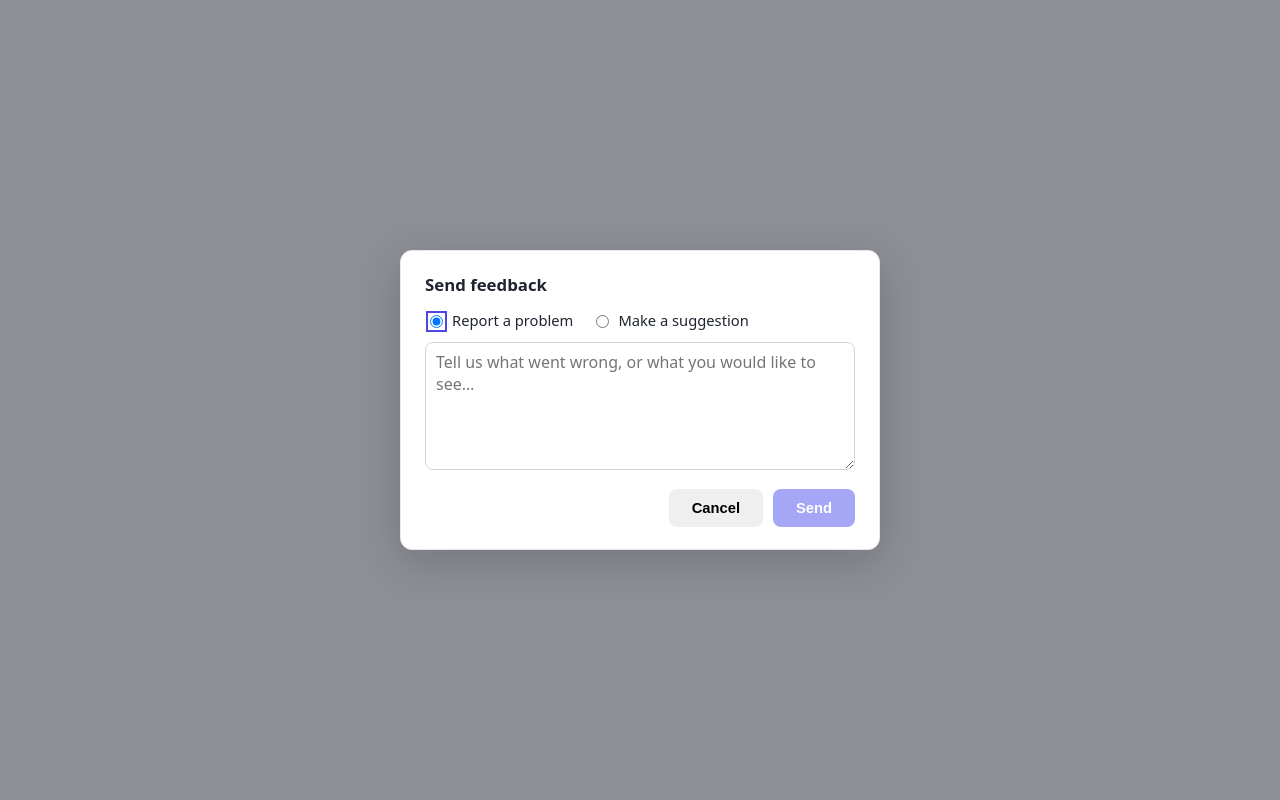
Scenario: FeedbackModal › submits the selected kind and trimmed body, then thanks
The width and height of the screenshot is (1280, 800).
Click the radio button labelled "Make a suggestion" at (603, 322), box [596,315,609,328]
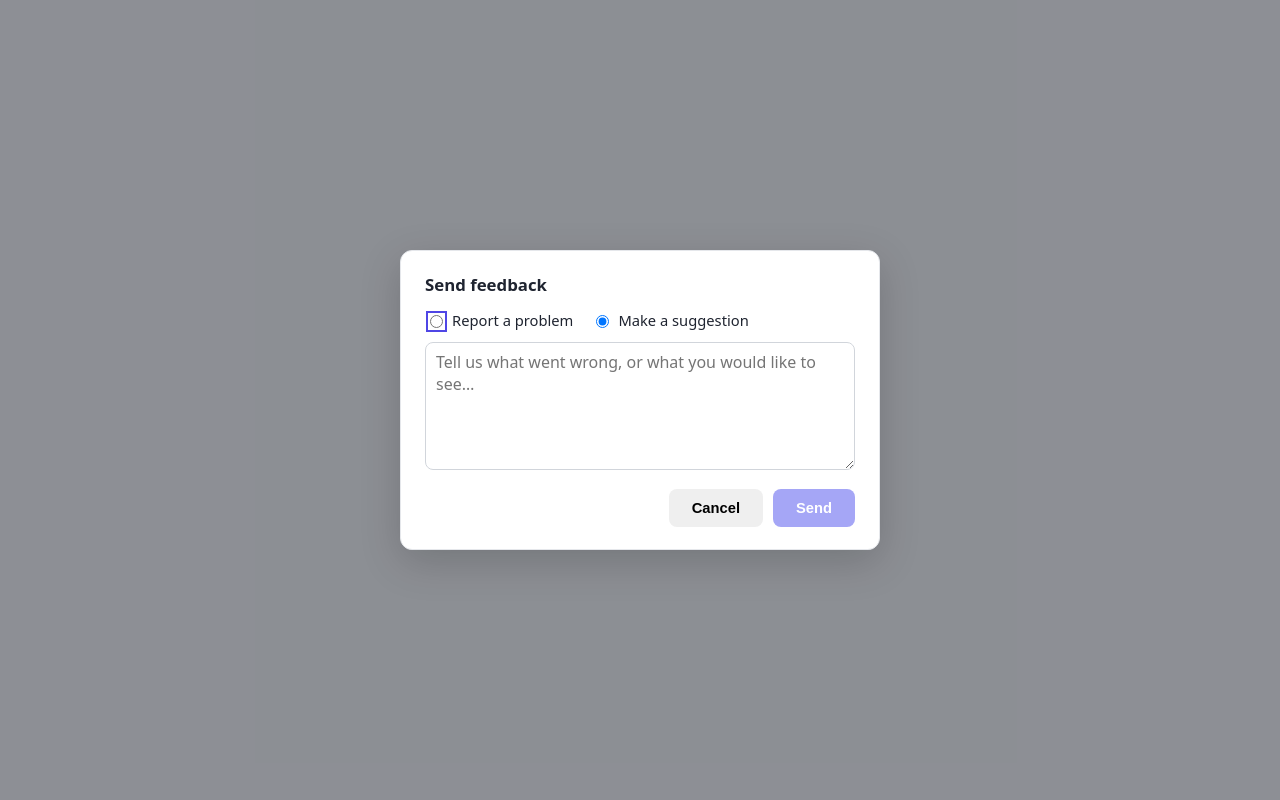
Type "  add an export button  " into the text box named "feedback" at (640, 406), box [425,342,855,470]
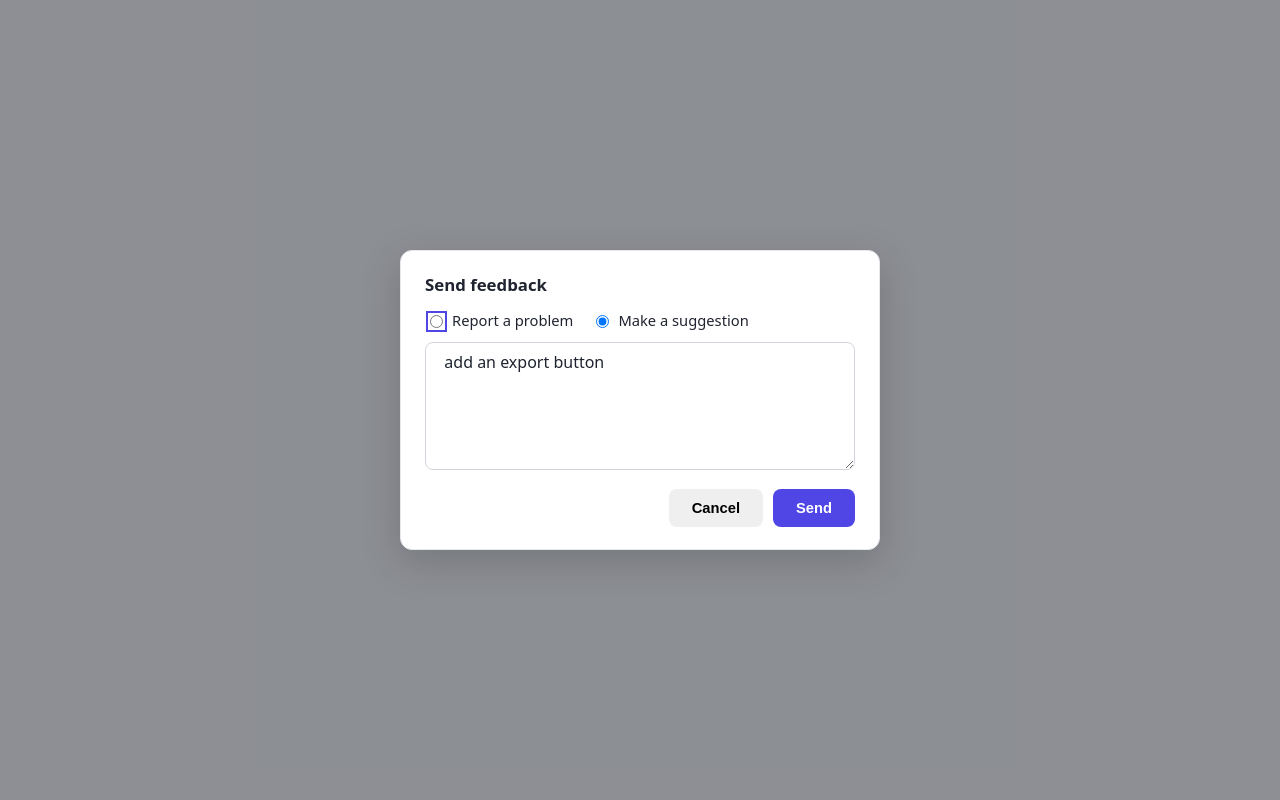
Click the button "Send" at (814, 508), box [773,489,855,527]
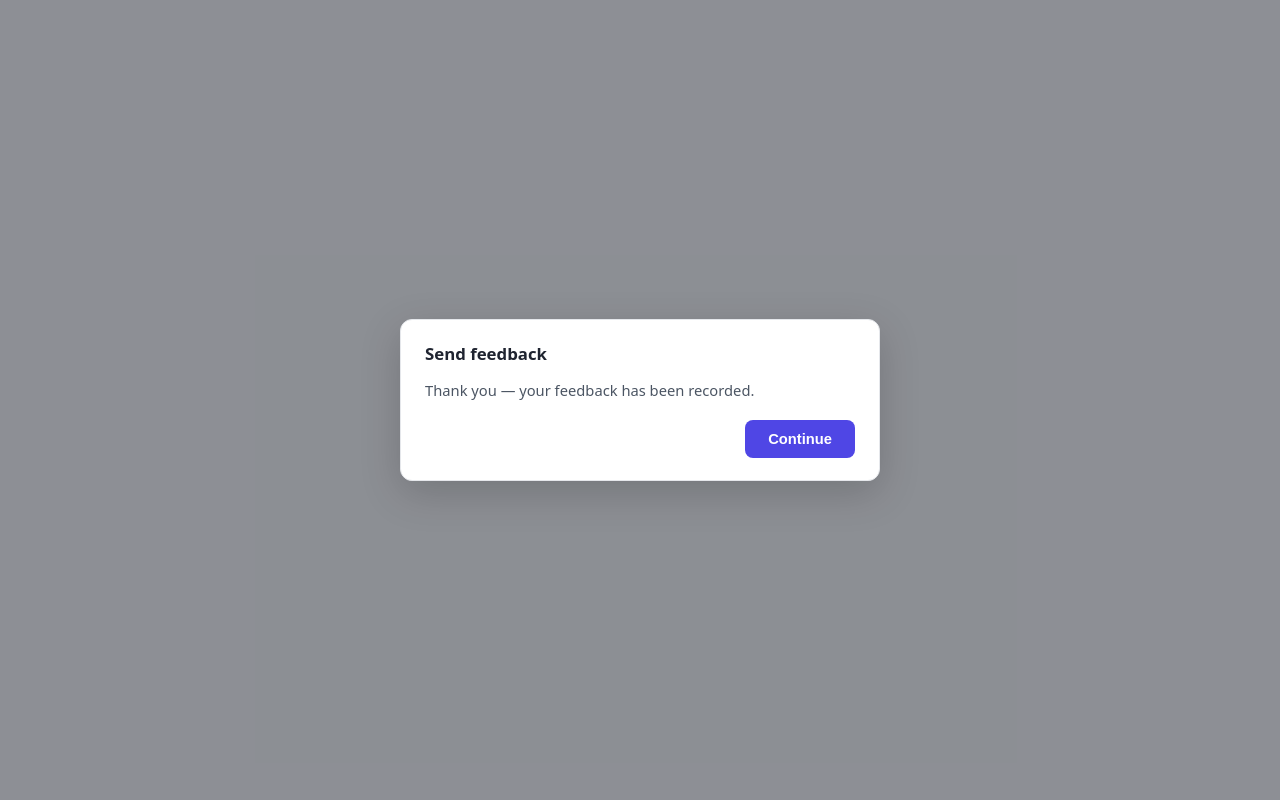
Now the text "Thank you — your feedback has been recorded." is shown, box [425,380,754,400]
